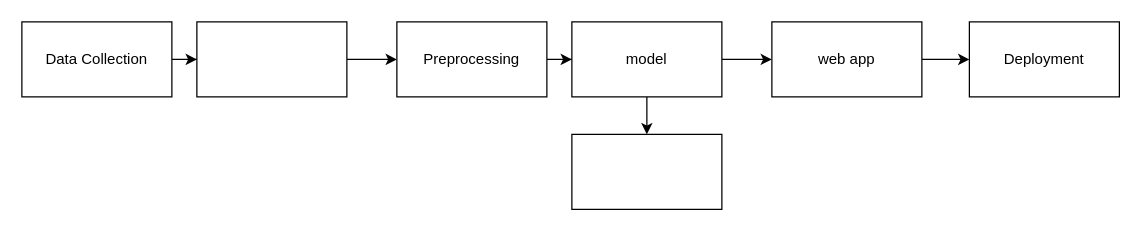
Some shapes in this 1141 by 231 pixel diagram are drawn without their labels. Each missing label, with the centre of its shape:
"Analysis" belongs at [271,59].
"Clustering" belongs at [646,171].
